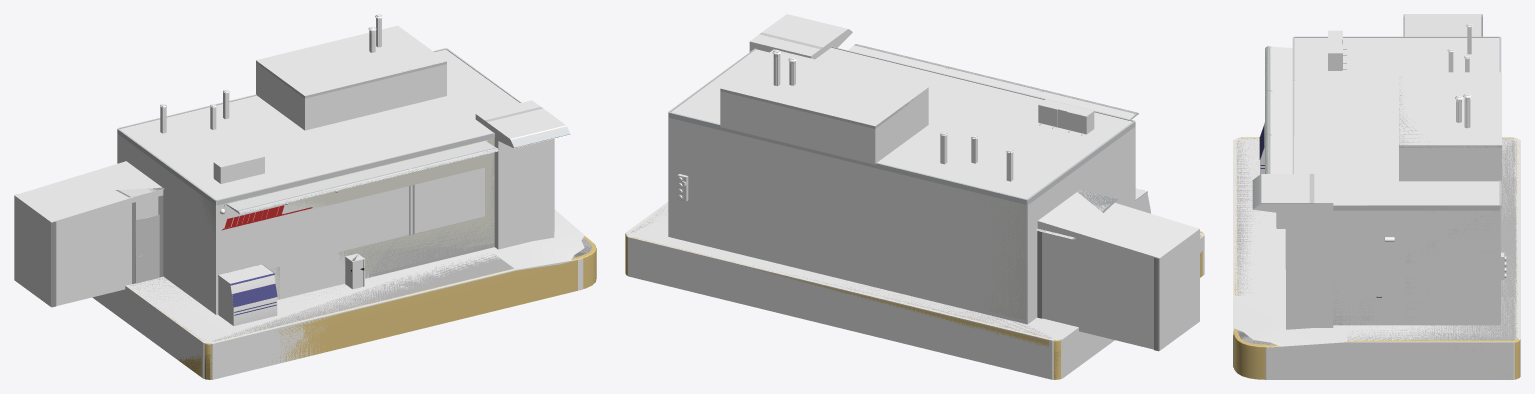
The model's file is eca_gastation_store.DAE.
3 renders of one model, left to right at view 1: azimuth 30°, elevation 25°; view 2: azimuth 150°, elevation 25°; view 3: azimuth 270°, elevation 25°, orthographic. The views are drawn at different scales.
Visible parts, largest first — view 1: Colmesh-1, eca_gastation_store500, eca_gastation_store60, eca_gastation_store100; view 2: Colmesh-1, eca_gastation_store500, eca_gastation_store100, eca_gastation_store60; view 3: Colmesh-1, eca_gastation_store500, eca_gastation_store100, eca_gastation_store60.
Boxes of the visible parts, left/top/right/bottom form: Colmesh-1: left=14, top=14, right=589, bottom=379; eca_gastation_store500: left=15, top=14, right=596, bottom=379; eca_gastation_store60: left=115, top=69, right=591, bottom=379; eca_gastation_store100: left=118, top=48, right=594, bottom=290; Colmesh-1: left=625, top=14, right=1204, bottom=379; eca_gastation_store500: left=625, top=29, right=1203, bottom=379; eca_gastation_store100: left=669, top=47, right=1158, bottom=258; eca_gastation_store60: left=626, top=45, right=1200, bottom=377; Colmesh-1: left=1233, top=14, right=1520, bottom=379; eca_gastation_store500: left=1233, top=14, right=1519, bottom=379; eca_gastation_store100: left=1234, top=15, right=1500, bottom=345; eca_gastation_store60: left=1238, top=47, right=1419, bottom=344.
Size of the model in its own units: 16.23 by 8.12 by 7.05.
